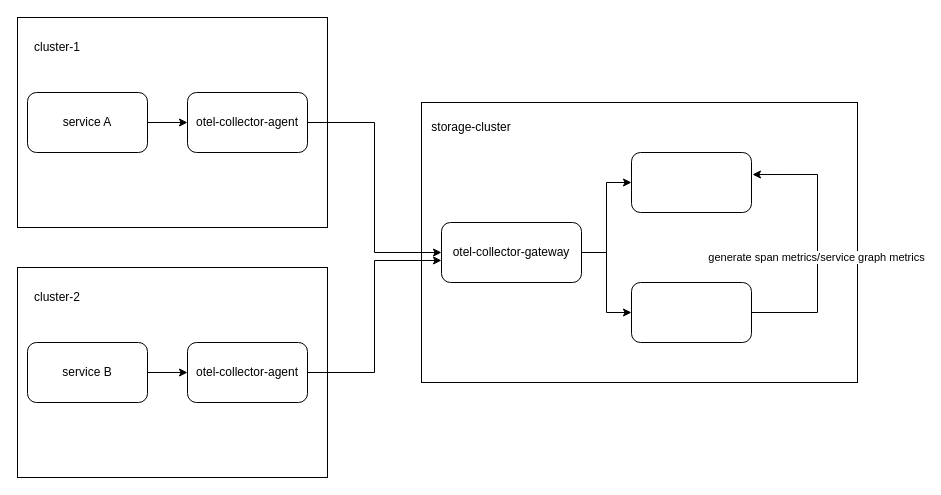
The diagram is 941 pixels wide and 495 high, and some of its shapes have lost their labels. Each missing label, with the centre of its shape:
grafana tempo: the point at 691,312
victoria metrics(TSDB): the point at 691,182
